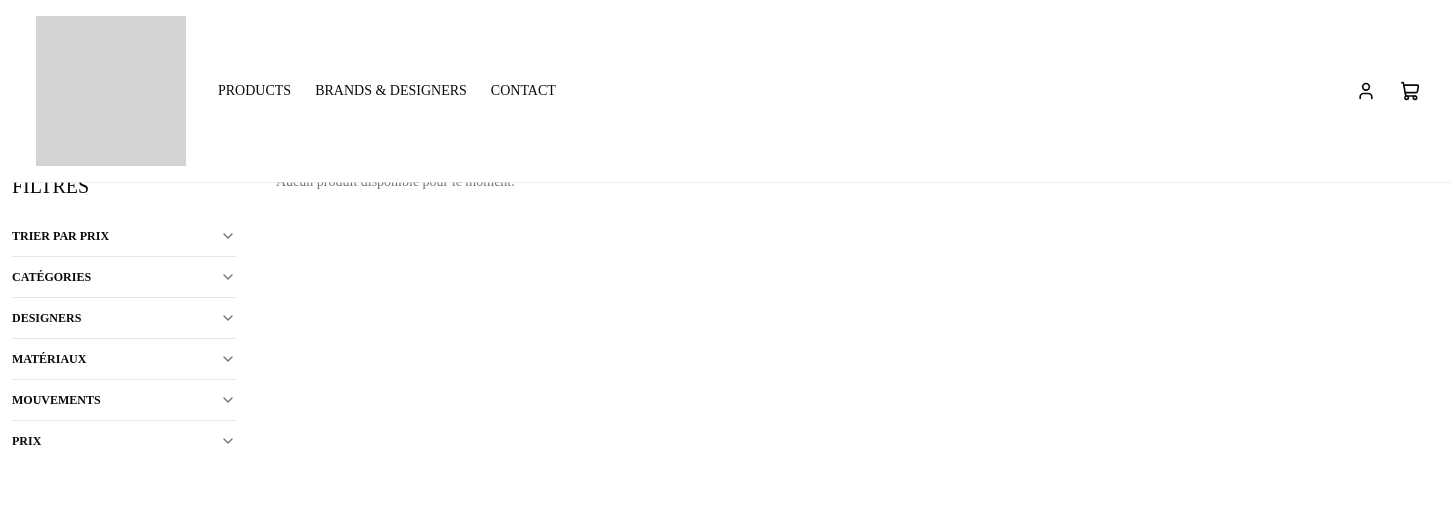
it: ShopAllPage › lists every movement as a filter checkbox
What coordinates should you click on to do the following:
click the button "Mouvements"
I would click on:
 (124, 400)
Its box is [12, 380, 236, 420].
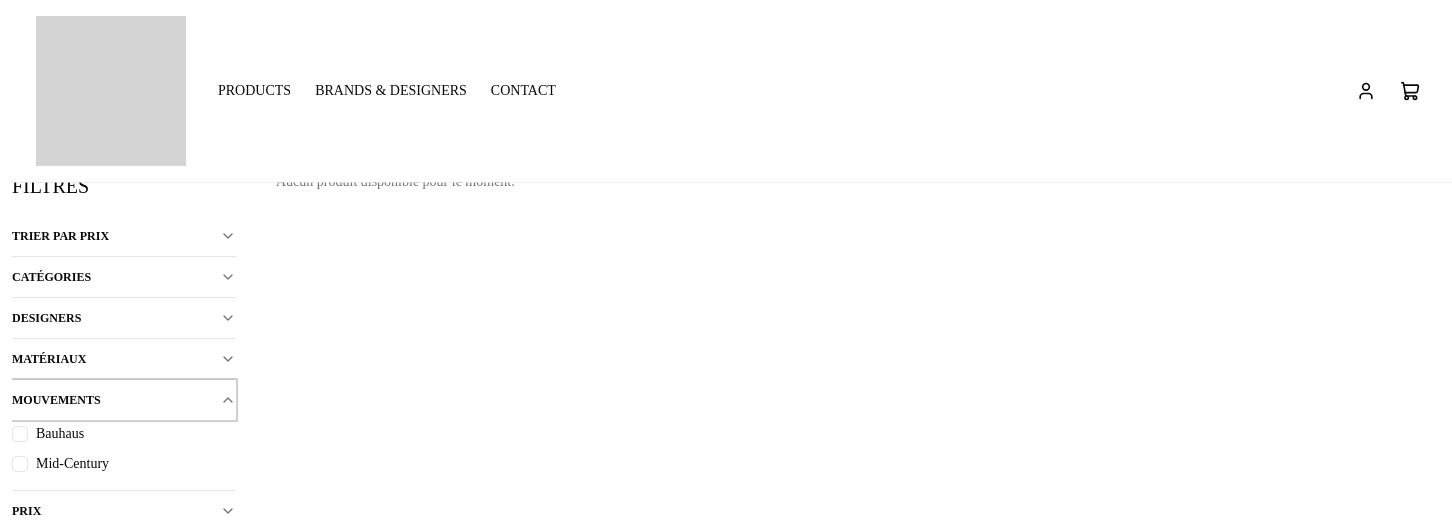
Expected: the checkbox named "Bauhaus" next to "Bauhaus" is shown, [12, 426, 28, 442]
Expected: the checkbox named "Mid-Century" next to "Mid-Century" is shown, [12, 456, 28, 472]
